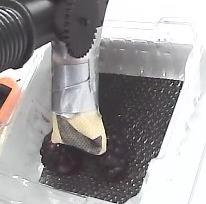berry: (40, 133, 85, 175), (94, 126, 129, 177)
